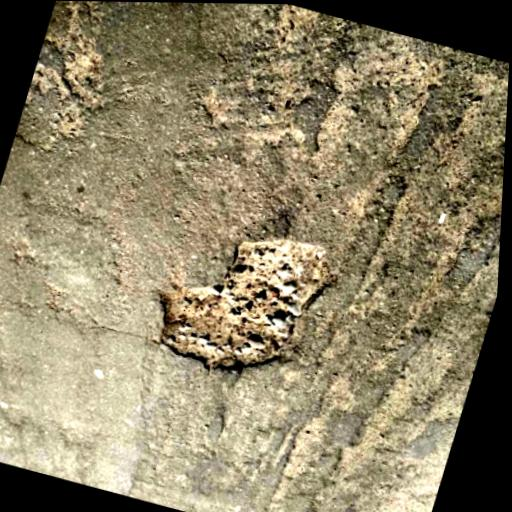pothole: (137, 203, 347, 398)
